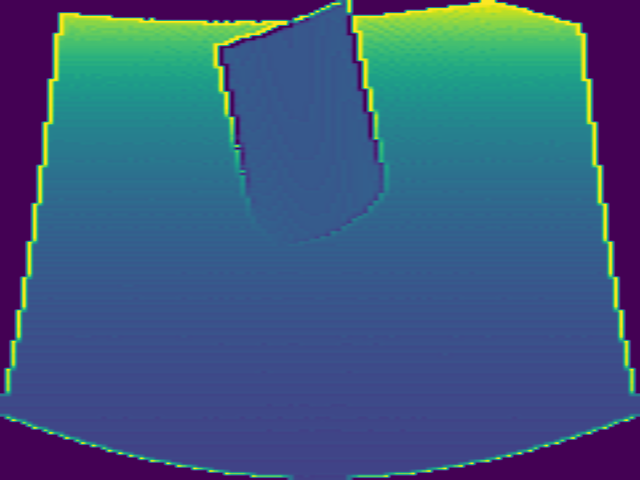cylinder: (214, 1, 388, 245)
